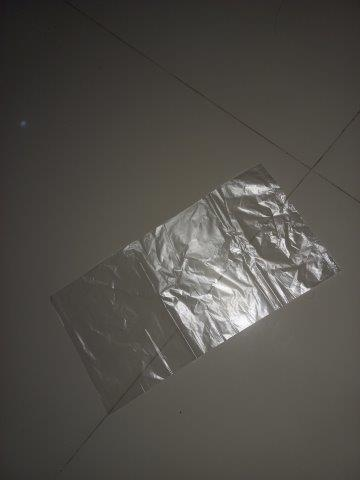plastik: (49, 164, 338, 417)
